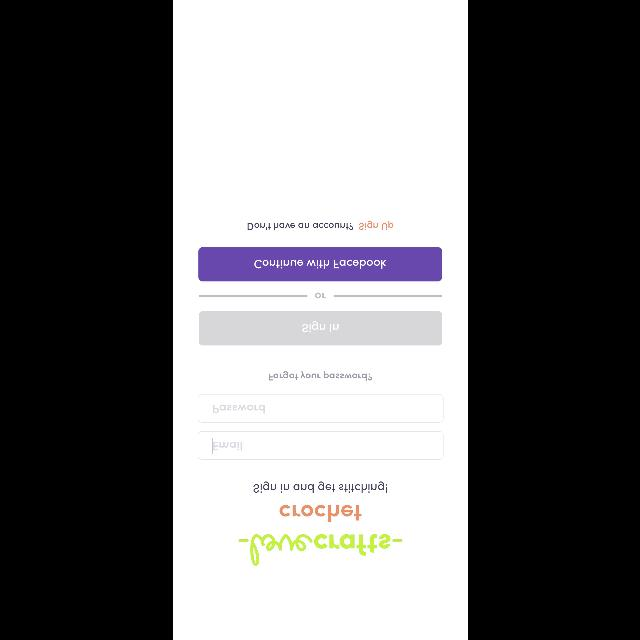image: (238, 534, 402, 566)
input: (197, 394, 443, 422), (197, 431, 443, 459)
text: (253, 482, 387, 492), (279, 506, 361, 522), (247, 222, 393, 230), (268, 372, 372, 381), (212, 404, 264, 414), (211, 438, 241, 454), (314, 292, 326, 298)
textbutton: (198, 247, 442, 281), (198, 311, 442, 345)
